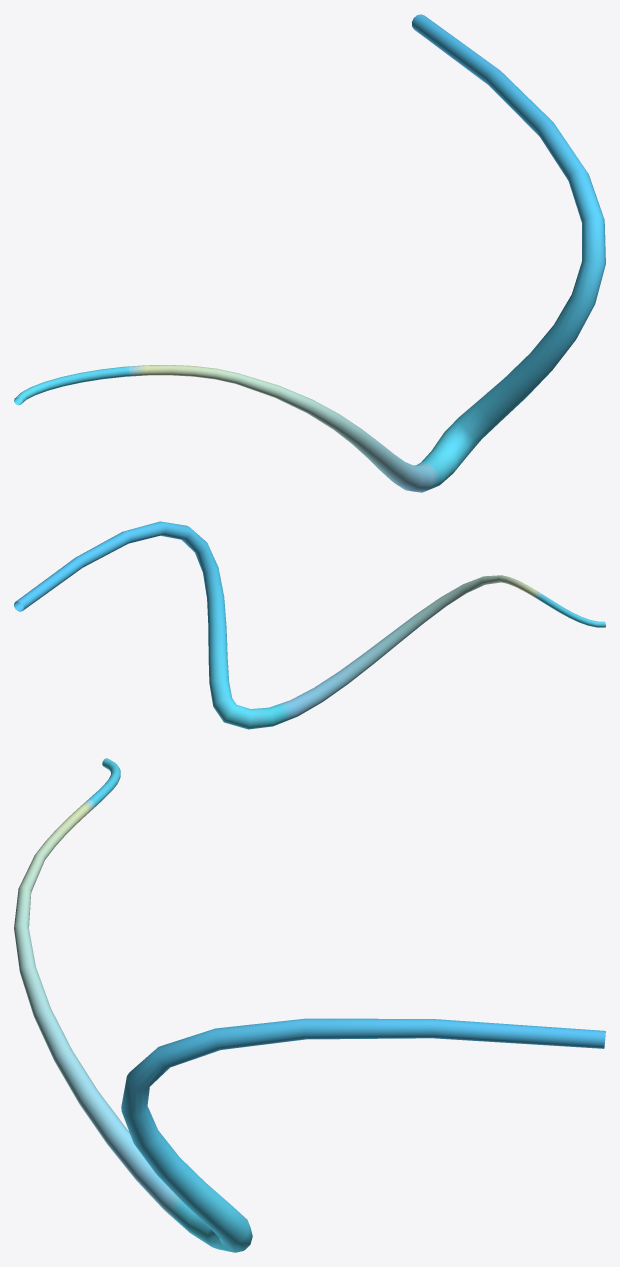
Rendered from SinopseWire.fbx.
3 views of the same model, one above another, from view 1: azimuth 30°, elevation 25°; view 2: azimuth 150°, elevation 25°; view 3: azimuth 270°, elevation 25° (orthographic). The views are drawn at different scales.
Visible parts, largest first — view 1: SinopseWire; view 2: SinopseWire; view 3: SinopseWire.
Boxes of the visible parts, x1,y1,x2,y2 form: SinopseWire: [14, 14, 605, 492]; SinopseWire: [14, 521, 605, 729]; SinopseWire: [14, 758, 605, 1252].
Bounding box in the file's own units: 10.96 × 4.73 × 8.29.
Materials: 1 (1 with a texture image).
